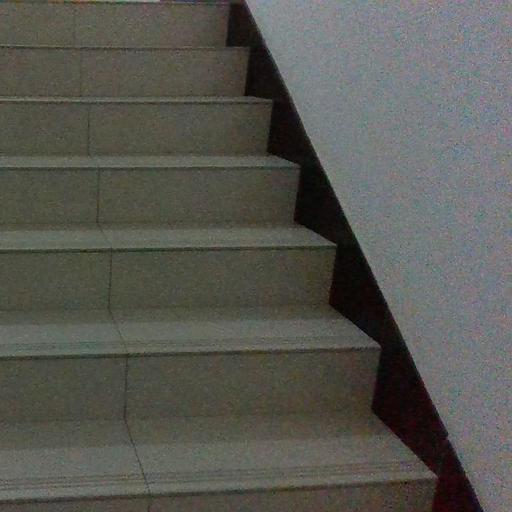Stairs: (0, 0, 480, 512)
